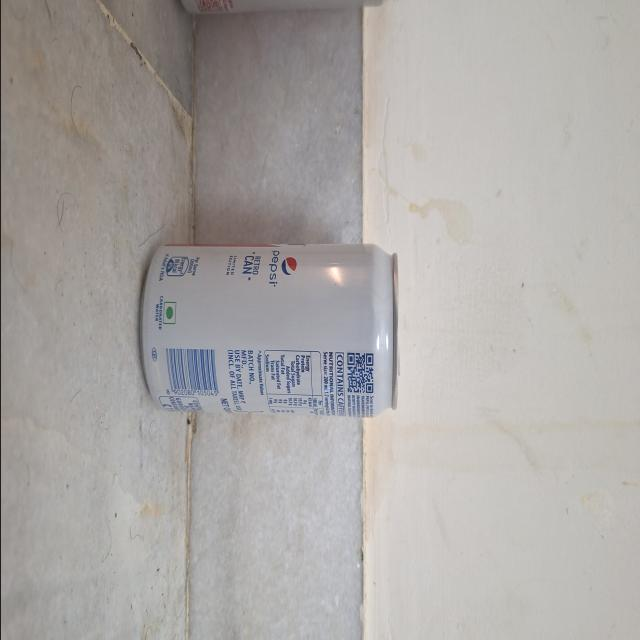Pepsi Retro: (113, 220, 414, 430)
